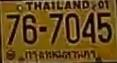0: (65, 12, 79, 43)
4: (82, 12, 95, 42)
5: (96, 12, 111, 42)
6: (22, 14, 36, 43)
7: (49, 12, 63, 44), (6, 14, 19, 44)
BKK: (24, 49, 97, 60)
